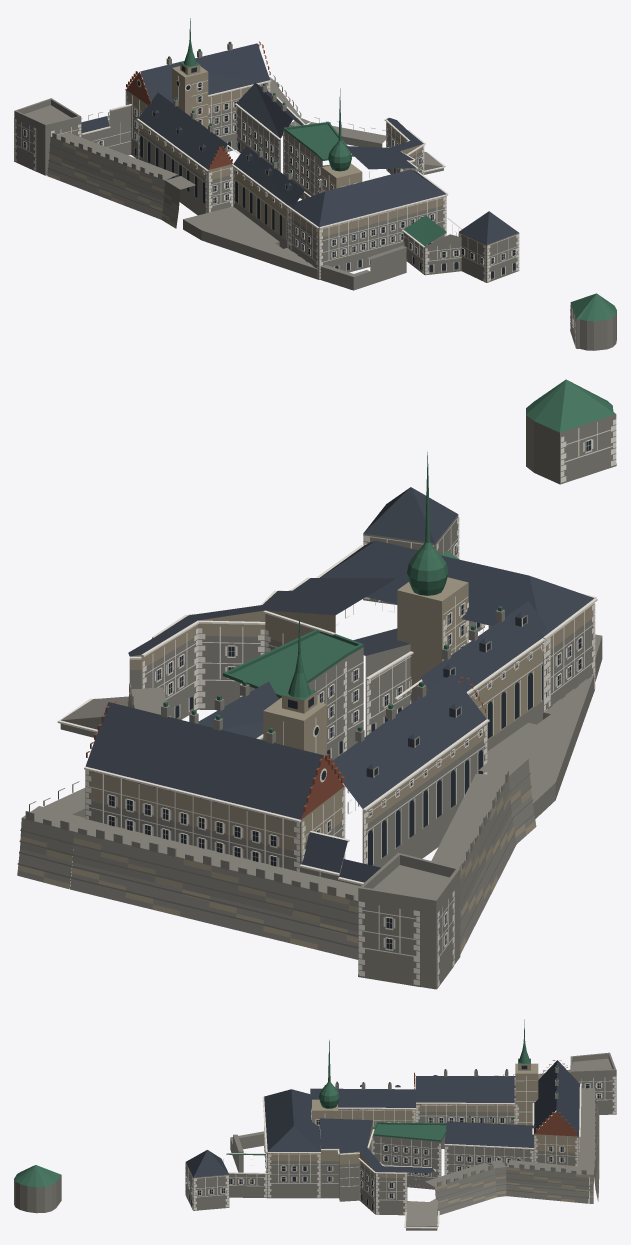
Rendered from akershus-fortress-near.glb.
3 renders of one model, top to bottom at view 1: azimuth 30°, elevation 25°; view 2: azimuth 150°, elevation 25°; view 3: azimuth 270°, elevation 25°, orthographic. The views are drawn at different scales.
Visible parts, largest first — view 1: akershus-fortress-0-stone, akershus-fortress-0-slate, akershus-fortress-0-trim, akershus-fortress-0-render, akershus-fortress-0-copper, akershus-fortress-0-glow, akershus-fortress-0-glass, akershus-fortress-0-brick; view 2: akershus-fortress-0-stone, akershus-fortress-0-slate, akershus-fortress-0-render, akershus-fortress-0-trim, akershus-fortress-0-copper, akershus-fortress-0-glow, akershus-fortress-0-glass, akershus-fortress-0-brick; view 3: akershus-fortress-0-stone, akershus-fortress-0-slate, akershus-fortress-0-trim, akershus-fortress-0-render, akershus-fortress-0-copper, akershus-fortress-0-glow, akershus-fortress-0-brick, akershus-fortress-0-glass.
Part boxes in pixels (bbox=[...]): akershus-fortress-0-stone: bbox=[14, 43, 616, 350]; akershus-fortress-0-slate: bbox=[81, 43, 518, 244]; akershus-fortress-0-trim: bbox=[14, 76, 575, 346]; akershus-fortress-0-render: bbox=[47, 63, 446, 240]; akershus-fortress-0-copper: bbox=[168, 18, 616, 321]; akershus-fortress-0-glow: bbox=[24, 66, 515, 263]; akershus-fortress-0-glass: bbox=[24, 80, 515, 278]; akershus-fortress-0-brick: bbox=[126, 41, 270, 169]; akershus-fortress-0-stone: bbox=[17, 414, 616, 989]; akershus-fortress-0-slate: bbox=[85, 487, 594, 882]; akershus-fortress-0-render: bbox=[18, 577, 594, 954]; akershus-fortress-0-trim: bbox=[57, 419, 616, 986]; akershus-fortress-0-copper: bbox=[163, 379, 615, 733]; akershus-fortress-0-glow: bbox=[109, 440, 590, 949]; akershus-fortress-0-glass: bbox=[127, 622, 581, 928]; akershus-fortress-0-brick: bbox=[86, 676, 485, 819]; akershus-fortress-0-stone: bbox=[14, 1052, 616, 1230]; akershus-fortress-0-slate: bbox=[186, 1060, 579, 1177]; akershus-fortress-0-trim: bbox=[185, 1076, 616, 1228]; akershus-fortress-0-render: bbox=[267, 1063, 599, 1204]; akershus-fortress-0-copper: bbox=[14, 1019, 557, 1187]; akershus-fortress-0-glow: bbox=[189, 1065, 600, 1198]; akershus-fortress-0-brick: bbox=[414, 1060, 578, 1136]; akershus-fortress-0-glass: bbox=[186, 1083, 600, 1209].
Bounding box in the file's own units: 78.14 × 36 × 148.
